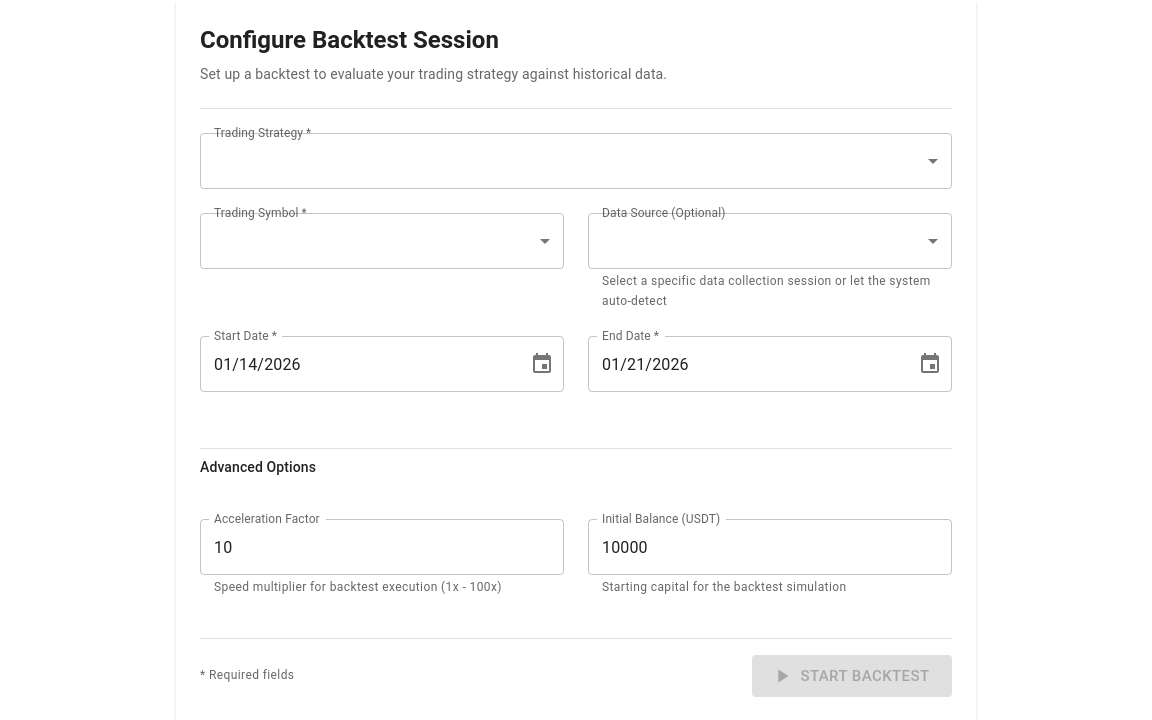
it: BacktestSetupForm › AC2: Symbol Selection › allows selecting a symbol
Press the mouse on the dropdown named "Trading Symbol" next to "Trading Symbol *" at (382, 241), box [200, 213, 564, 269]
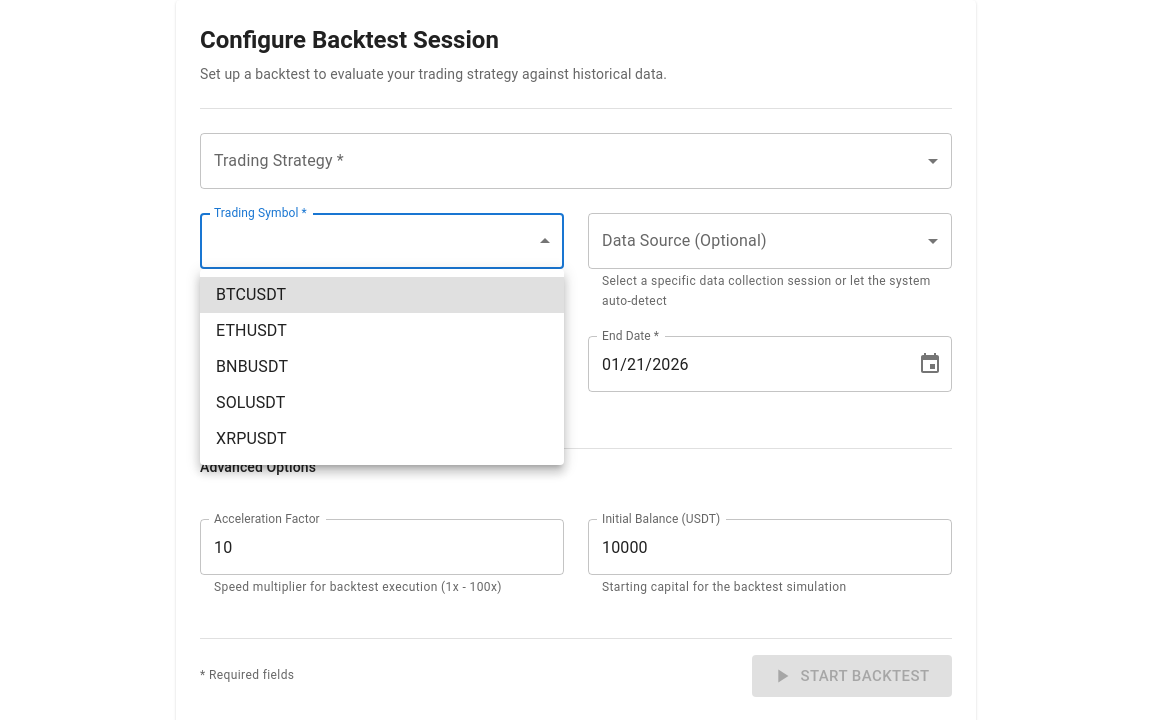
Expected: the option "BTCUSDT" is shown
Click the option "BTCUSDT" at (251, 294), box [200, 277, 564, 313]
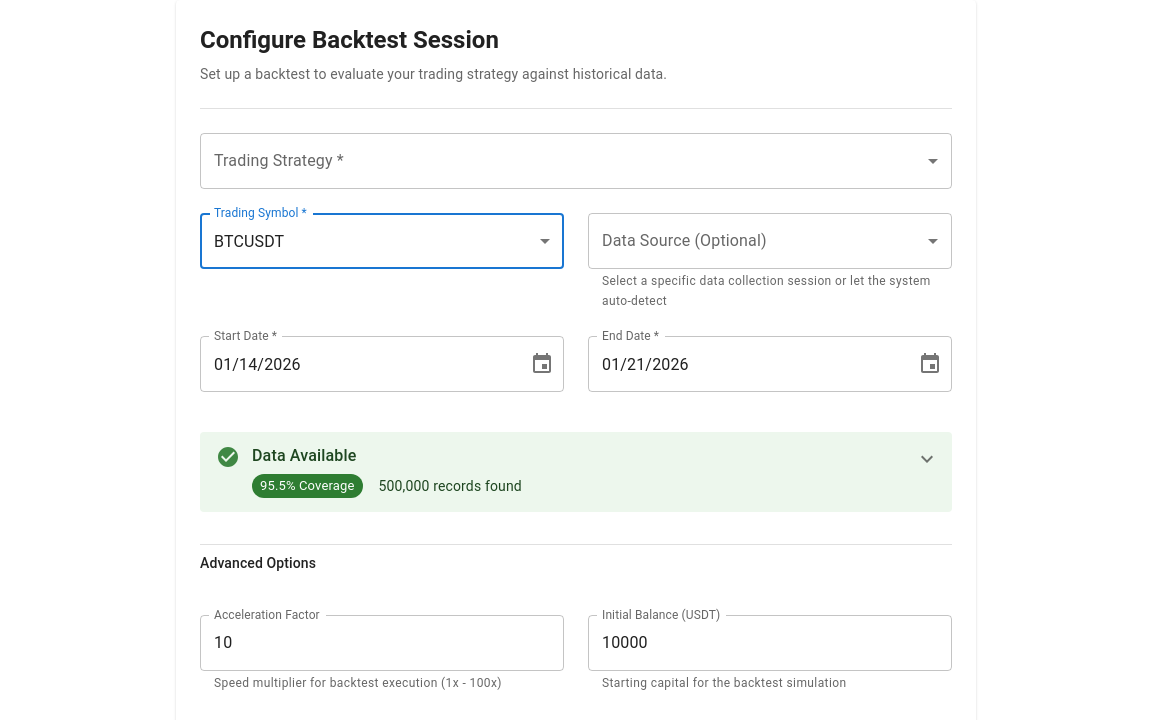
Expected: the dropdown named "Trading Symbol" reads "BTCUSDT", [214, 232, 284, 251]
